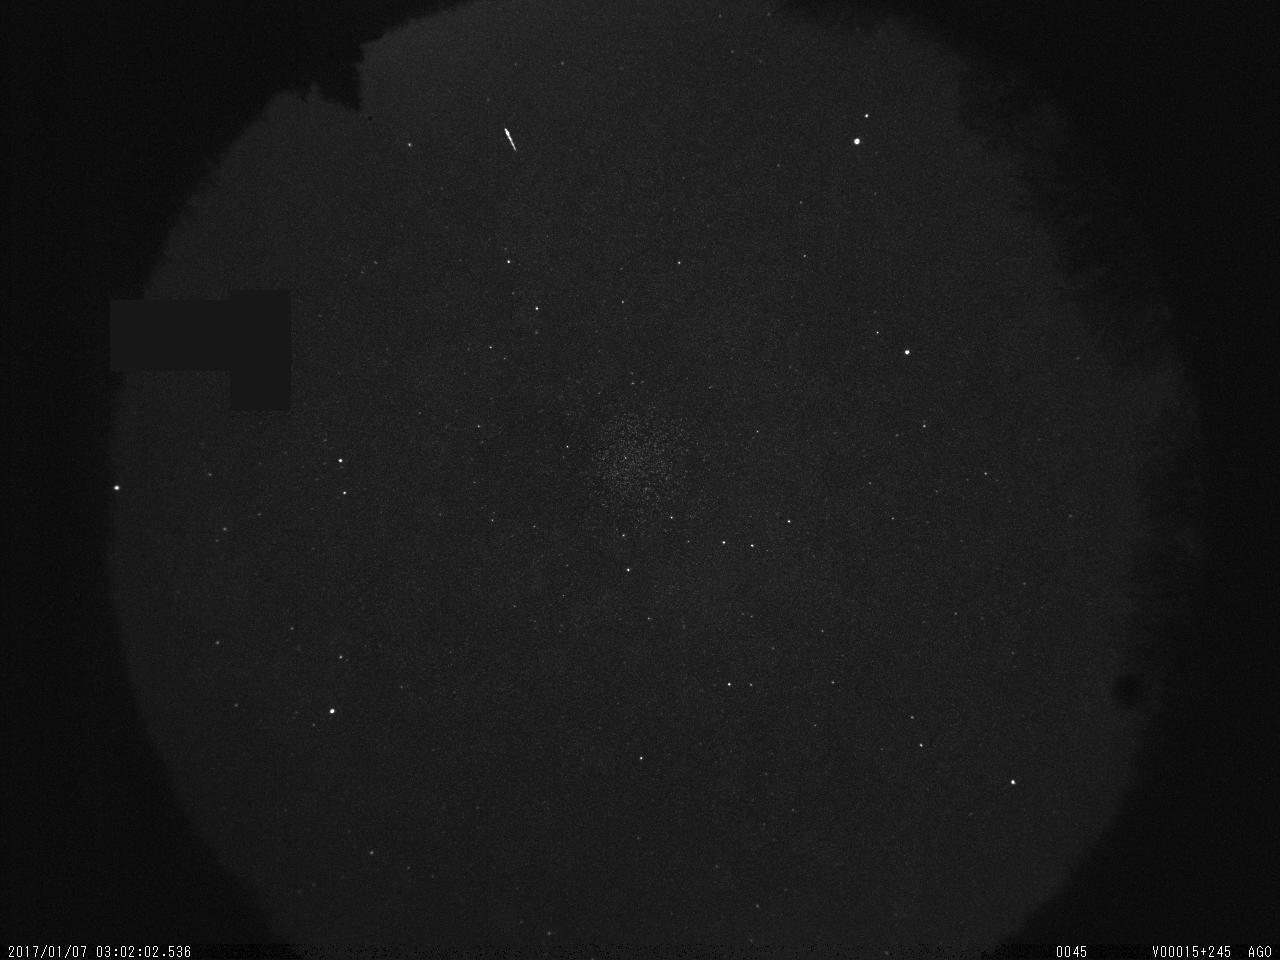meteor: (492, 119, 523, 162)
